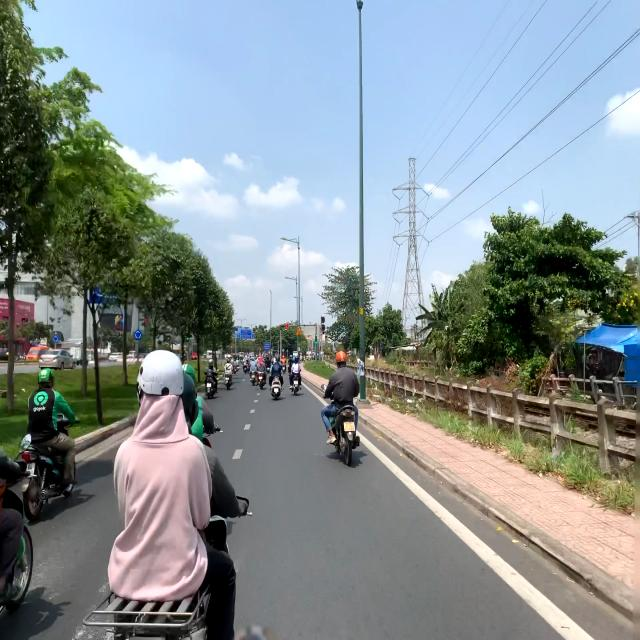R.303: (134, 330, 142, 340), (53, 335, 59, 343)
W.210: (296, 327, 303, 335)
